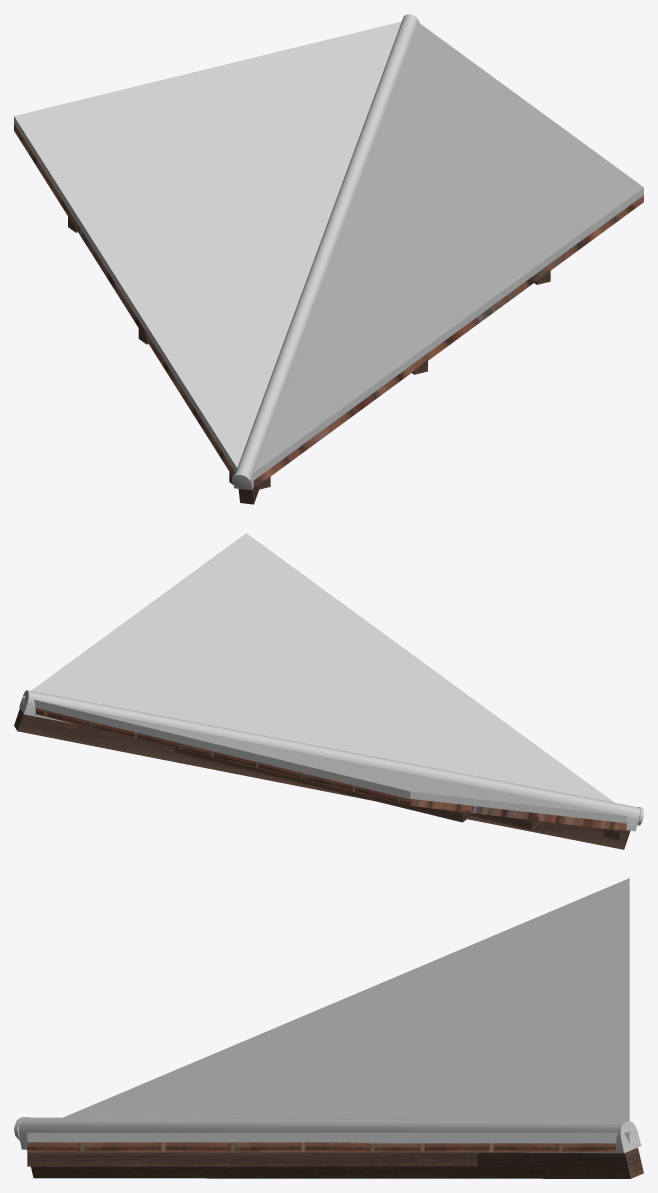
Rendered from kawara_2x3t_a1corner_cav.fbx.
3 views of the same model, one above another, from view 1: azimuth 30°, elevation 25°; view 2: azimuth 150°, elevation 25°; view 3: azimuth 270°, elevation 25° (orthographic). The views are drawn at different scales.
Parts seen in each view (by area): view 1: kawara_2x3t_a1corner_cav; view 2: kawara_2x3t_a1corner_cav; view 3: kawara_2x3t_a1corner_cav.
Part boxes in pixels (x1,y1,x2,y2): kawara_2x3t_a1corner_cav: (14, 14, 643, 504); kawara_2x3t_a1corner_cav: (14, 533, 643, 849); kawara_2x3t_a1corner_cav: (14, 878, 643, 1178).
Bounding box in the file's own units: 396 × 208 × 395.
